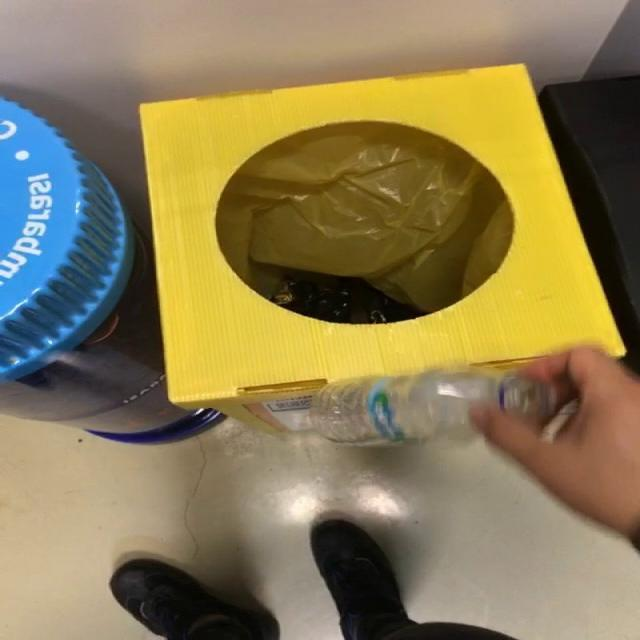Plastic: (307, 371, 556, 446)
